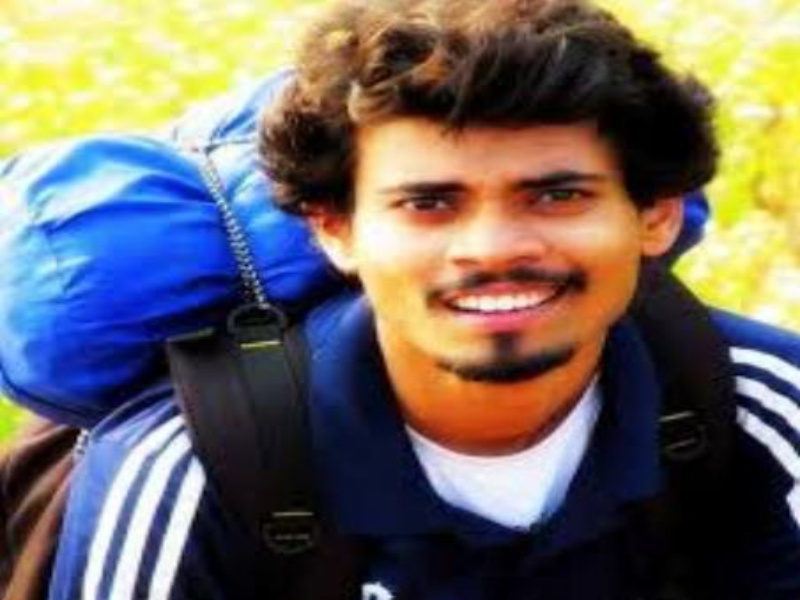TsisyArotava: (278, 75, 712, 408)
